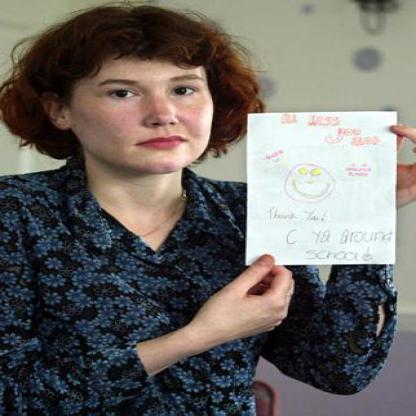face: (66, 14, 229, 177)
